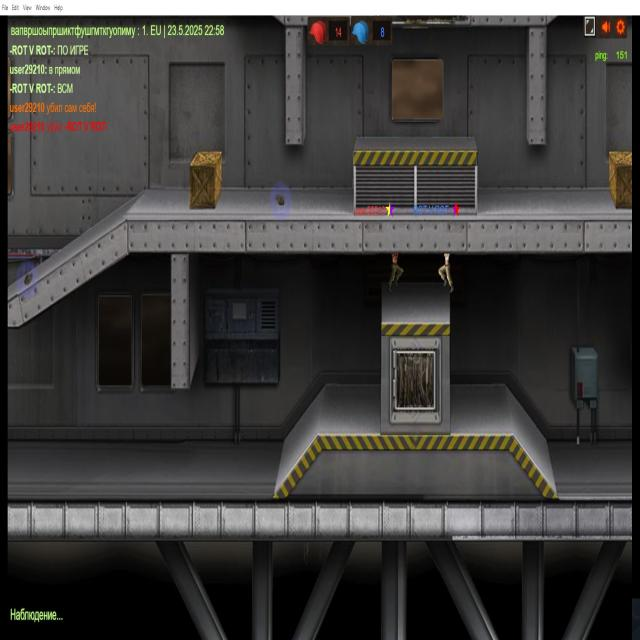enemy: (438, 240, 457, 294), (386, 241, 404, 292)
